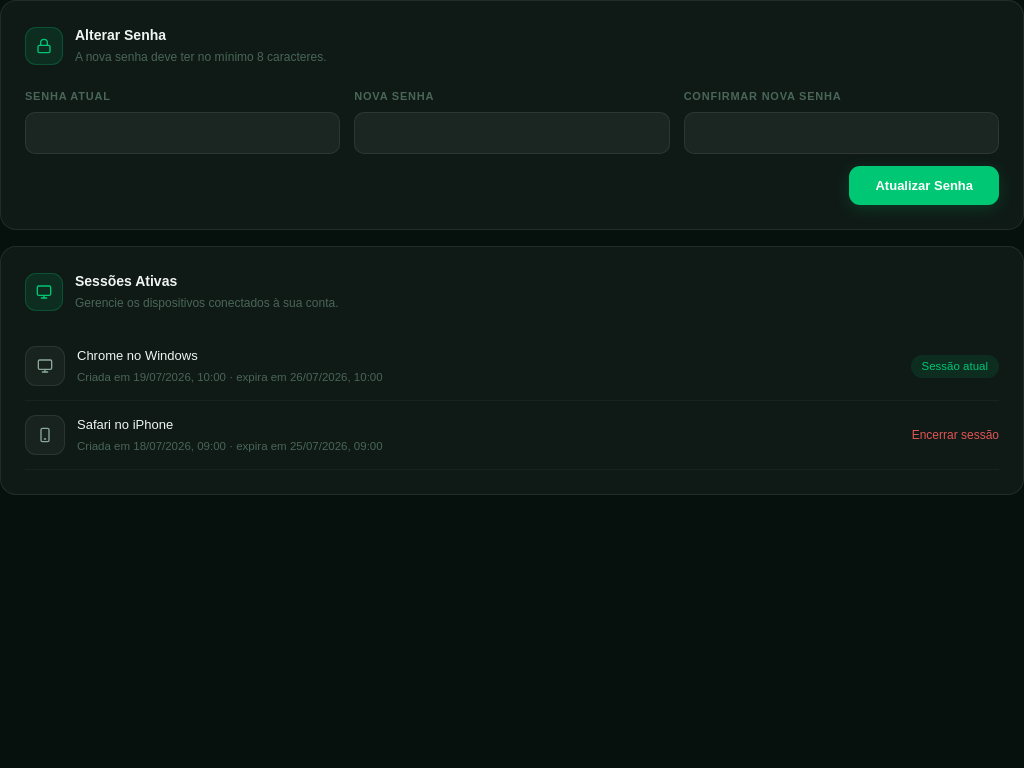
Test: SecurityTab › falha ao revogar exibe mensagem de erro
Expected: the text "Safari no iPhone" is shown, [77, 417, 173, 432]
Step 1. Click the button "Encerrar sessão" → [955, 435], box [912, 426, 999, 444]
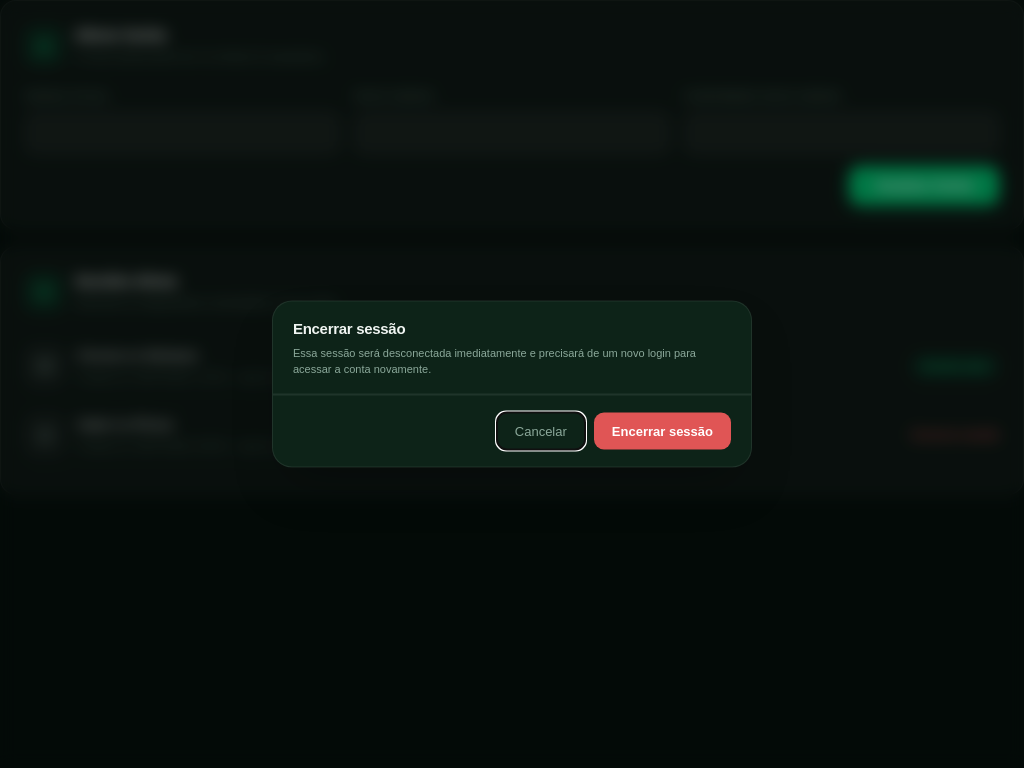
Now the dialog is shown, box [272, 300, 752, 468]
Step 2. Click the button "Encerrar sessão" → [662, 431], box [594, 412, 731, 450]
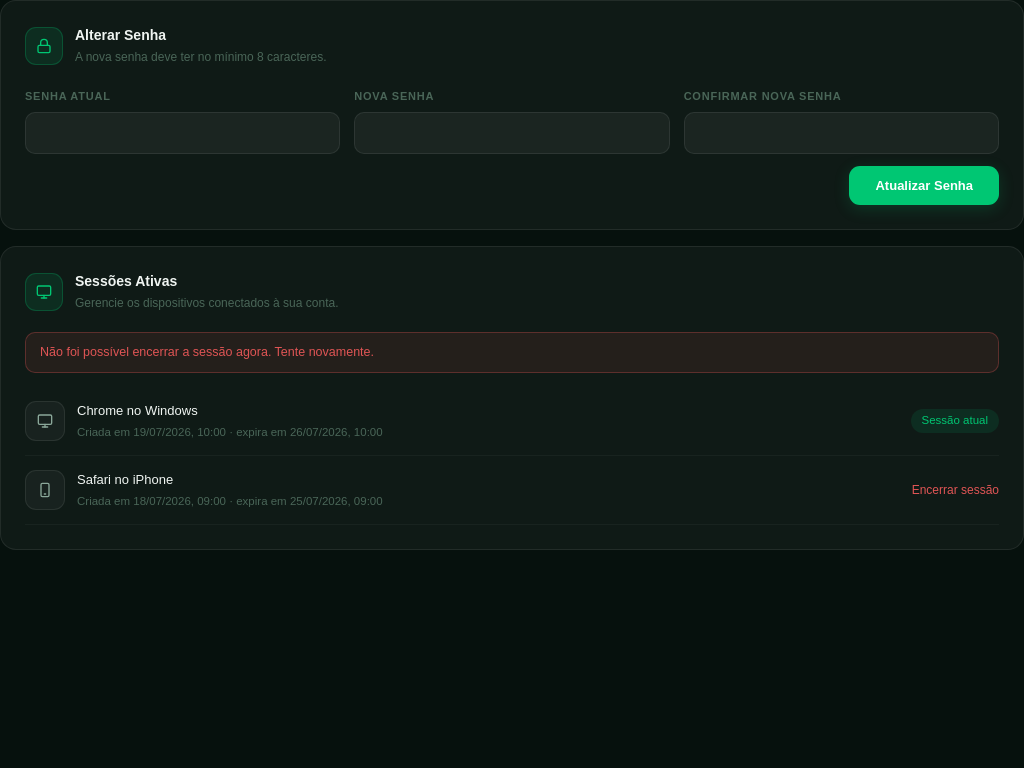
Now the message shows "Não foi possível encerrar a sessão", box [40, 345, 374, 359]
